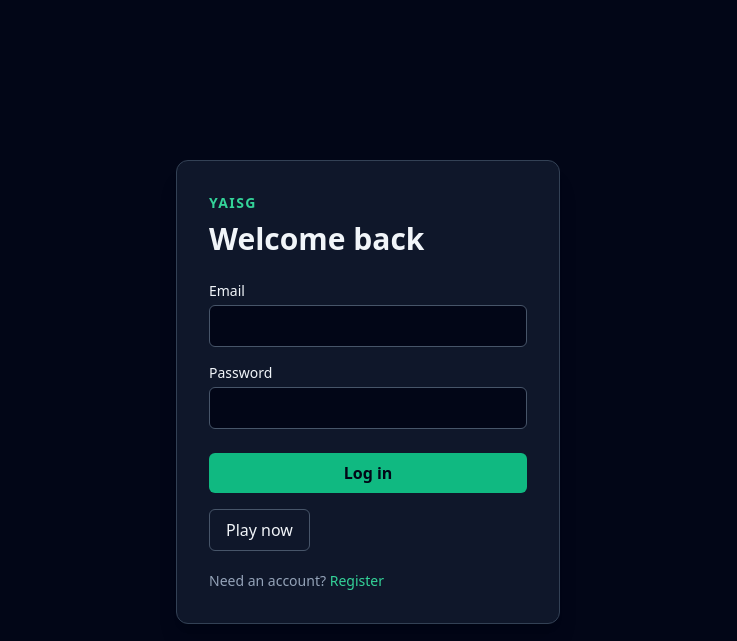
Test: routes Play now to character creation through an authenticated guest session
Click the button "Play now" at x=259, y=530, box [209,509,310,551]
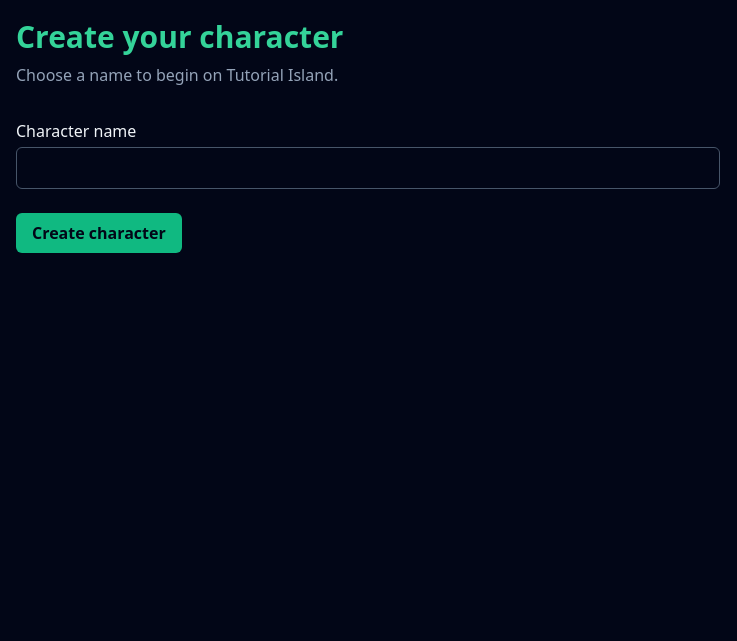
Now the heading "Create your character" is shown, box [16,16,344,57]
